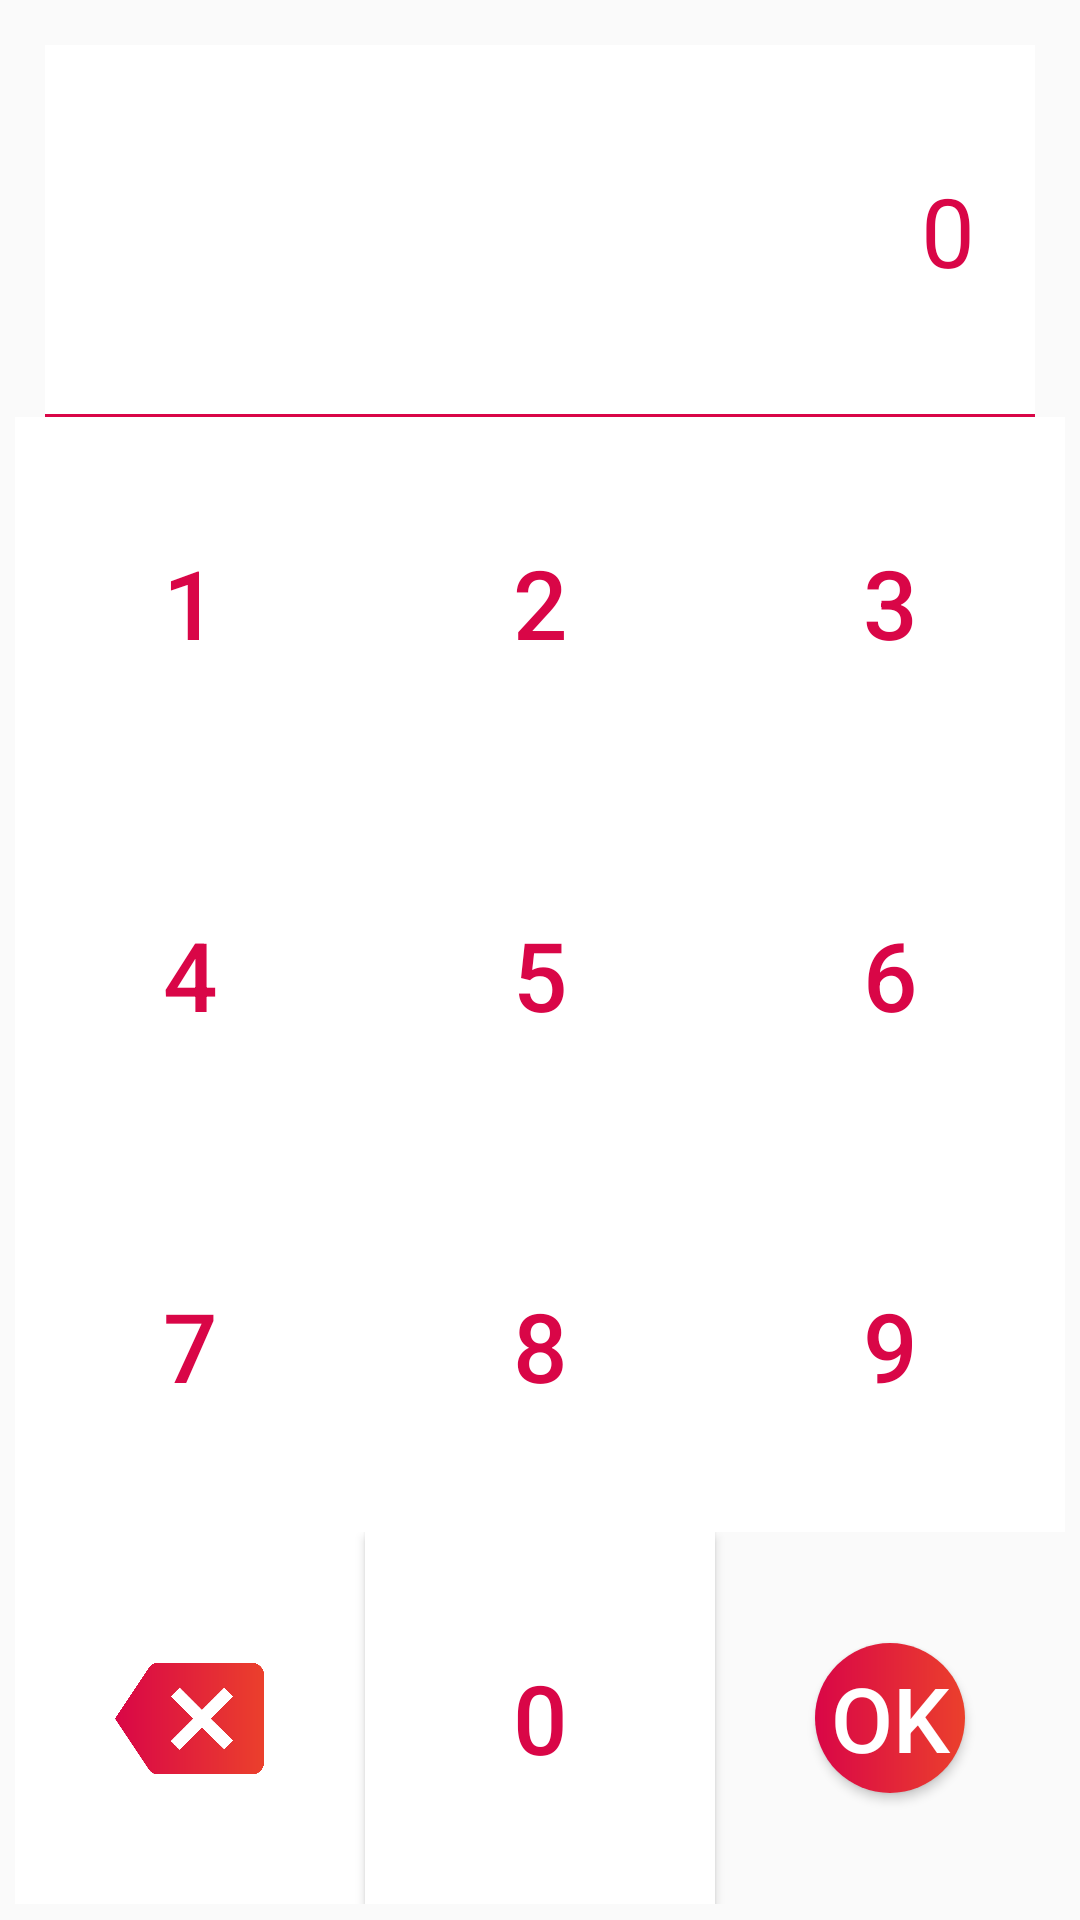

Screen size 1080 x 1920. Icon name, then its box in pixels as {"left": x1, "top": y1, "right": x2, "bottom": y2}:
backspace: {"left": 115, "top": 1663, "right": 264, "bottom": 1774}
